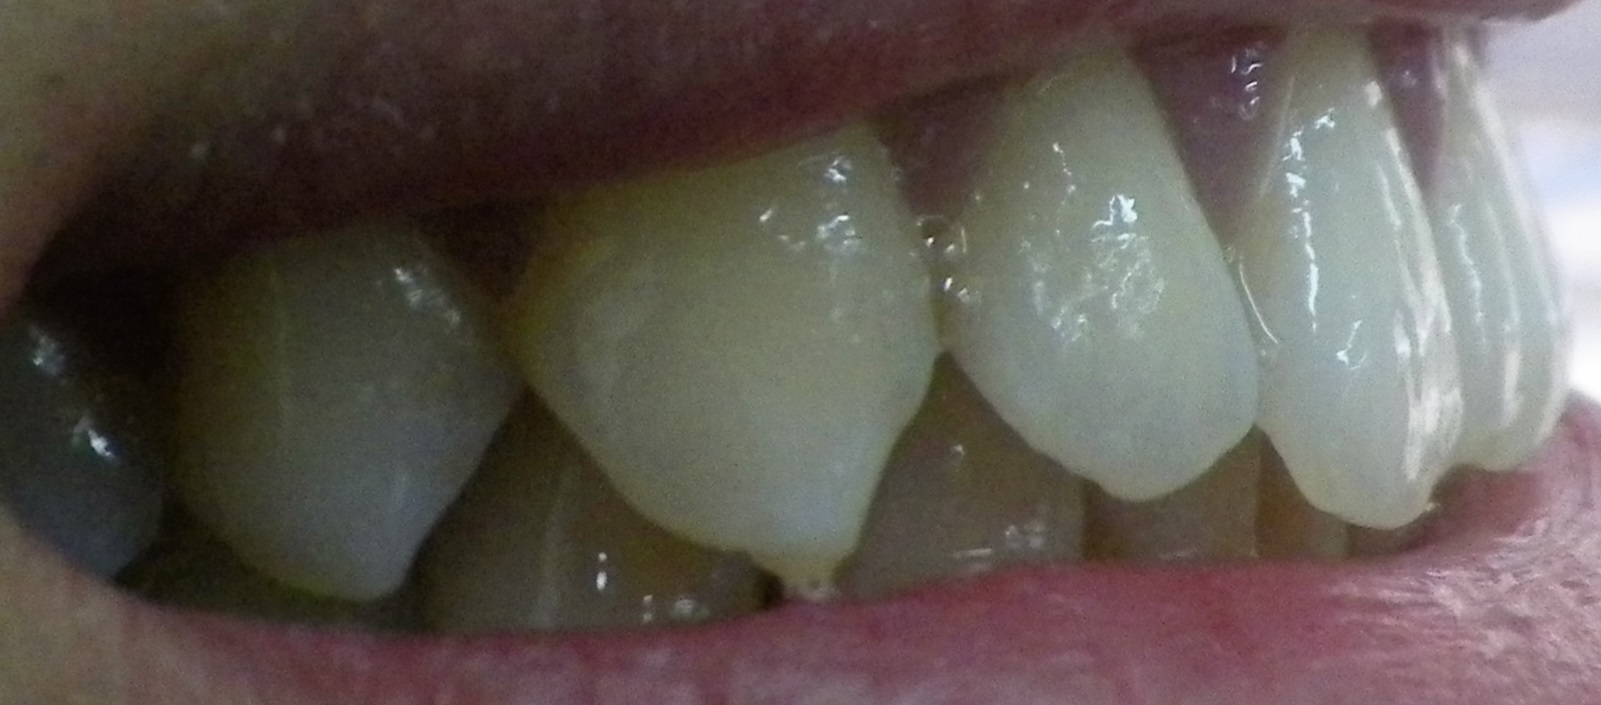boca: (10, 54, 1575, 614)
